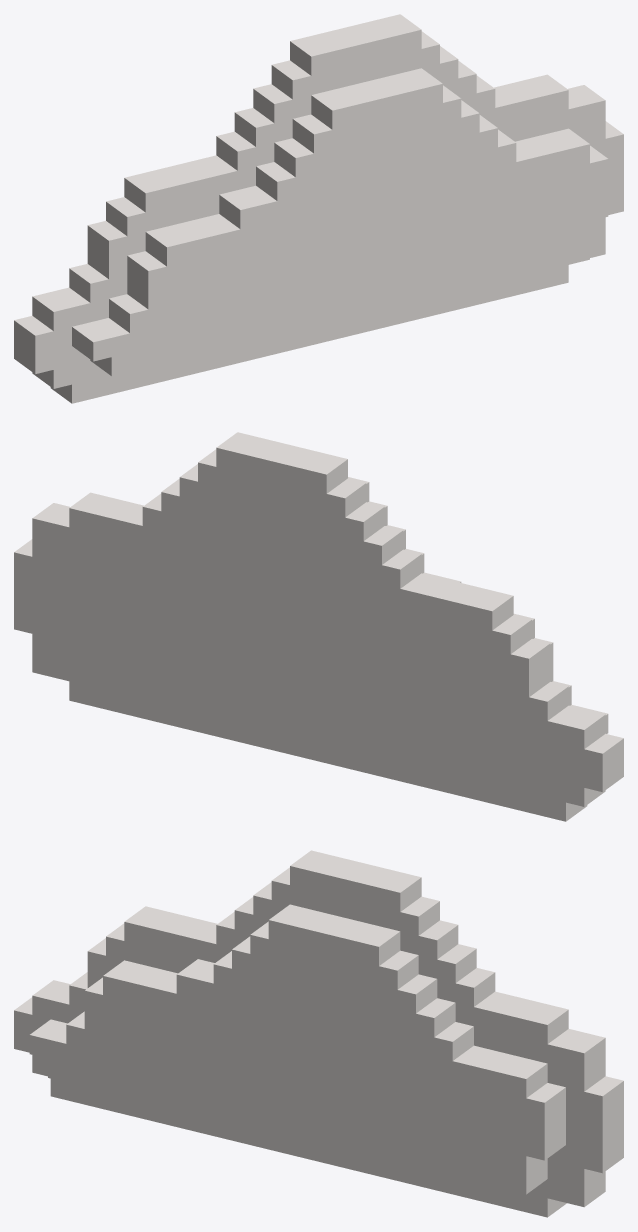
File: cloud-2.glb
3 views of the same model, one above another, from view 1: azimuth 30°, elevation 25°; view 2: azimuth 150°, elevation 25°; view 3: azimuth 330°, elevation 25° (orthographic).
Visible parts, largest first — view 1: Polygon; view 2: Polygon; view 3: Polygon.
Part boxes in pixels (box(x1,y1,x2,y2)): Polygon: box(14, 14, 623, 403); Polygon: box(14, 432, 623, 821); Polygon: box(14, 850, 623, 1217).
Size of the model in its own units: 3.2 by 1.5 by 0.4.
Materials: 1 (1 with a texture image).
